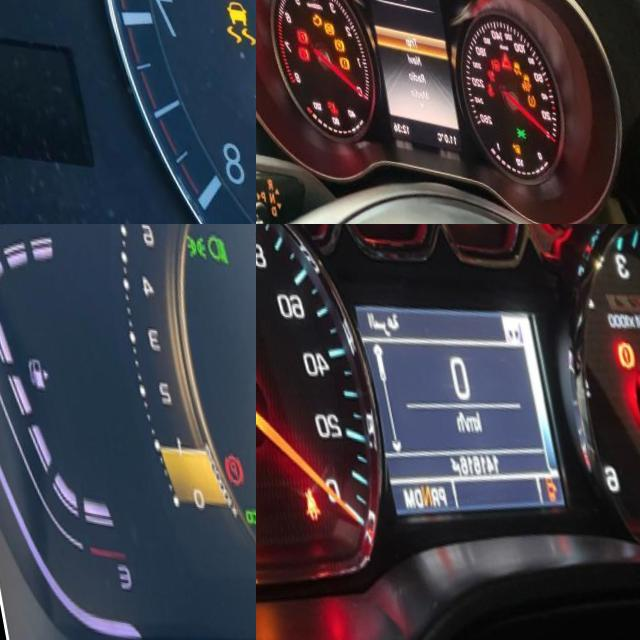Low beam: (197, 224, 226, 259)
Seat Belt: (282, 473, 309, 521)
